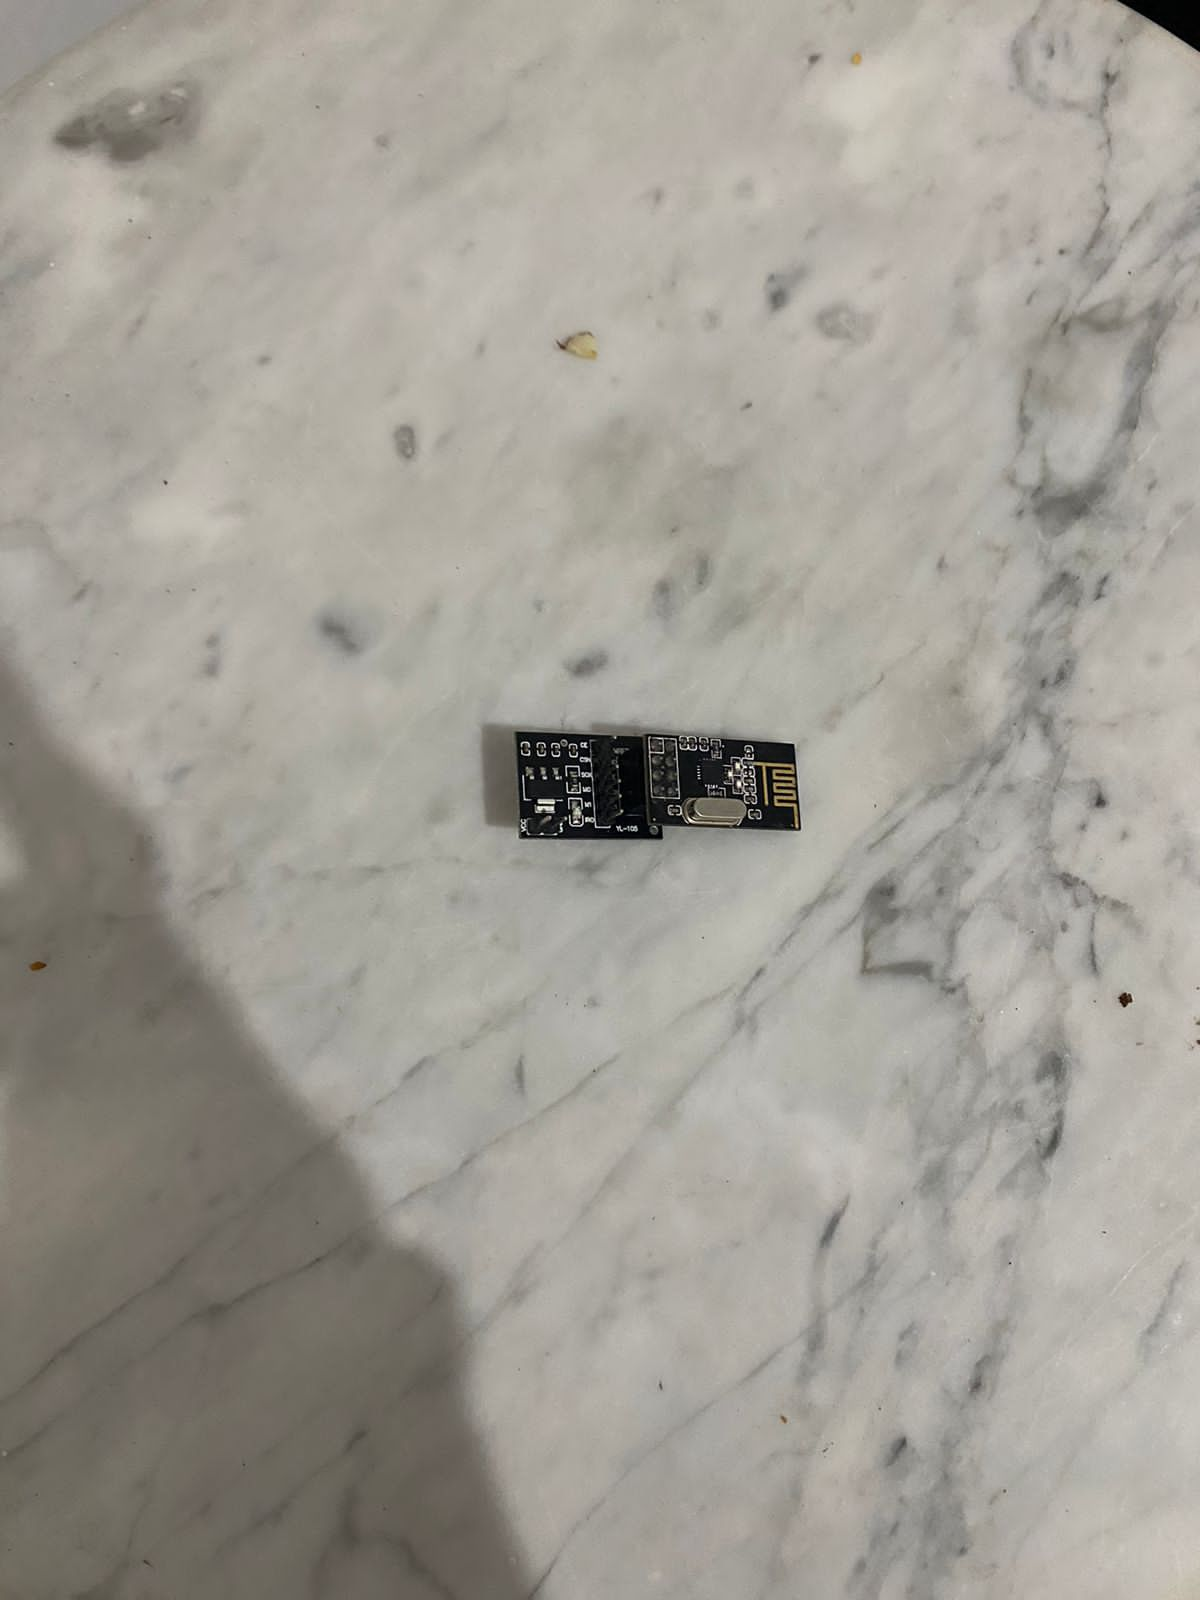RF-module: (499, 729, 821, 858)
